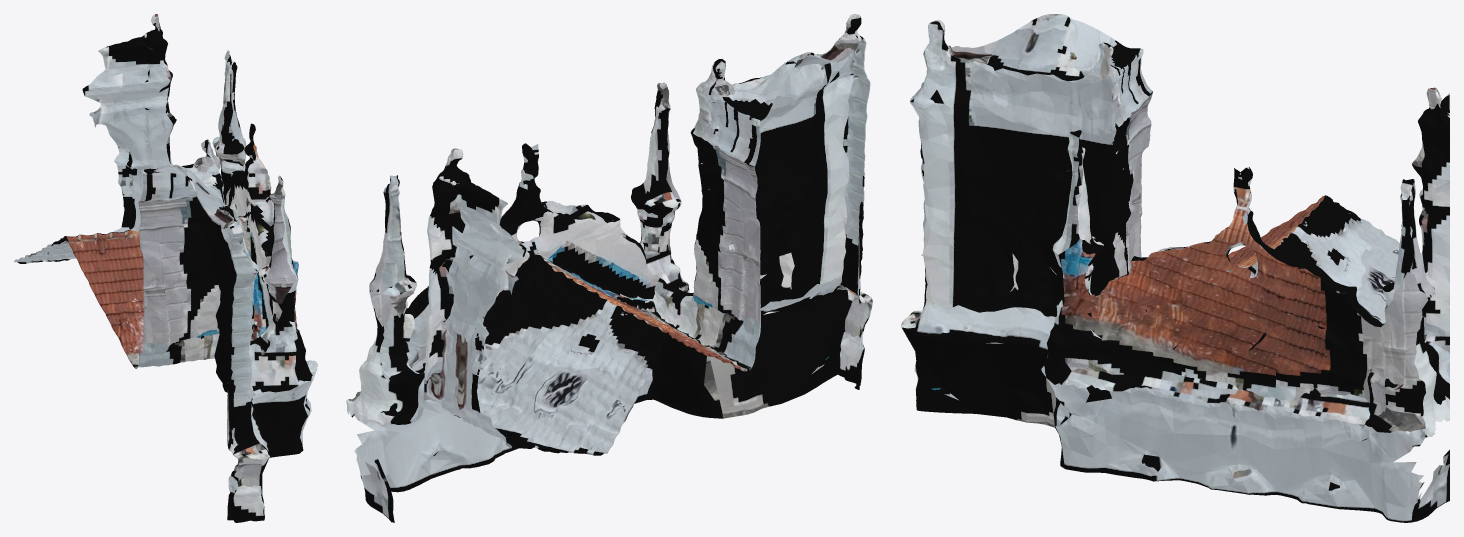
The picture shows the model from 3 angles, left to right: view 1: azimuth 30°, elevation 25°; view 2: azimuth 150°, elevation 25°; view 3: azimuth 270°, elevation 25°; orthographic projection. The views are drawn at different scales.
Parts seen in each view (by area): view 1: node_54; view 2: node_54; view 3: node_54.
Part boxes in pixels (x1,y1,x2,y2): node_54: (14,14,317,522); node_54: (346,14,872,522); node_54: (901,14,1449,522).
Size of the model in its own units: 6.91 by 9.16 by 11.82.
Materials: 1 (1 with a texture image).
